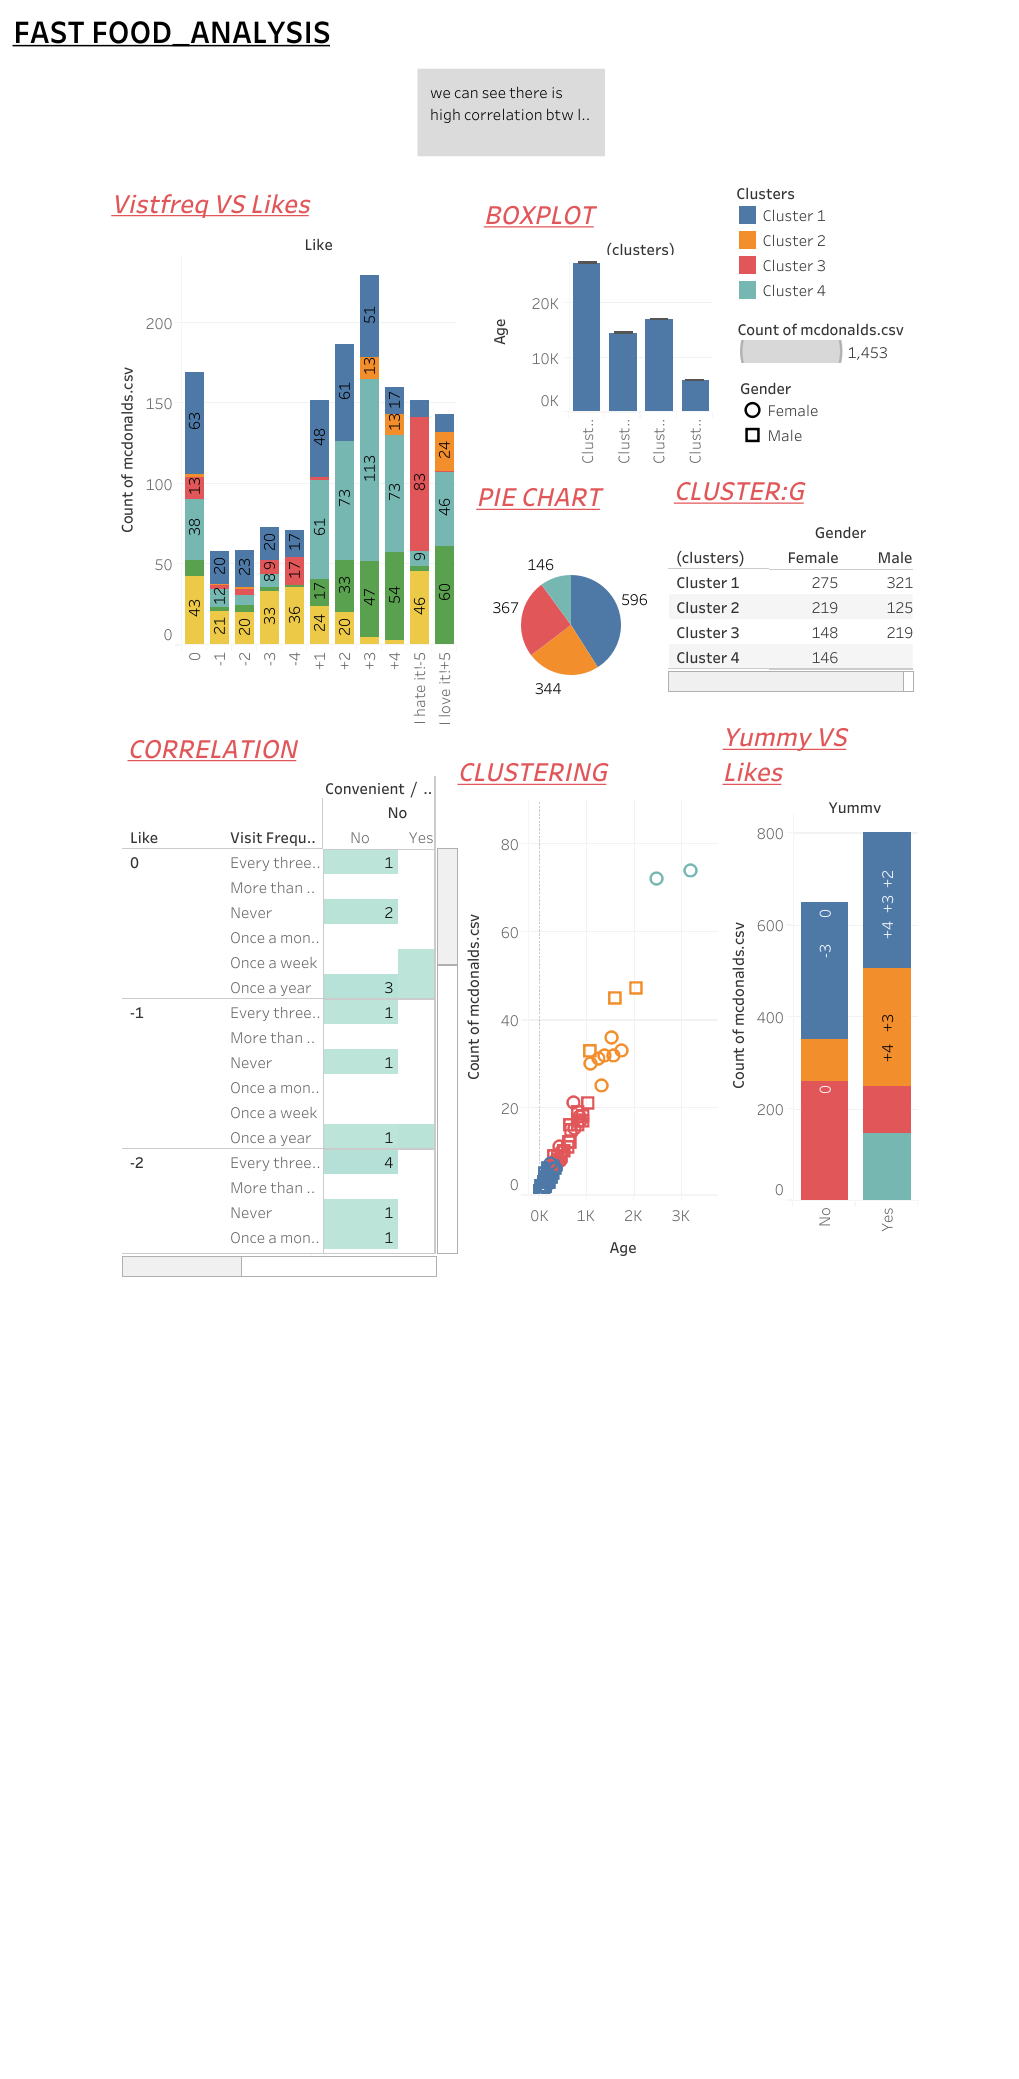

What the dashboard file says about the page in this screenshot:
{"tool":"tableau","page":{"name":"Dashboard 2","canvas":[650,860],"ordinal":1},"visuals":[{"type":"worksheet","title":"Sheet 6","mark":"Automatic","rows":["mcdonalds.csv_0BAE9D76FC1F49368F424B7D872B355A"],"cols":["Like"],"box":[2,1,291,454]},{"type":"legend","title":"Sheet 1","param":"[federated.05oyfjs17vo7ag14f51rx1qlio1h].[none:AdhocCluster:1:ok]","box":[505,2,143,106]},{"type":"worksheet","title":"Sheet 7","mark":"Automatic","rows":["Age"],"box":[300,10,187,223]},{"type":"legend","title":"Sheet 5","param":"[federated.05oyfjs17vo7ag14f51rx1qlio1h].[__tableau_internal_object_id__].[cnt:m","box":[506,111,141,43]},{"type":"legend","title":"Sheet 1","param":"[federated.05oyfjs17vo7ag14f51rx1qlio1h].[none:Gender:nk]","box":[508,158,142,61]},{"type":"worksheet","title":"Sheet 8","mark":"Automatic","cols":["Gender"],"box":[452,231,196,203]},{"type":"worksheet","title":"Sheet 5","mark":"Pie","box":[294,236,161,211]},{"type":"worksheet","title":"Sheet 4","mark":"Automatic","rows":["mcdonalds.csv_0BAE9D76FC1F49368F424B7D872B355A"],"cols":["yummy"],"box":[491,428,160,431]}]}

Visuals, with their boxes on the page's 650x860 design canvas (x1, y1, x2, y2). These are canvas units, not pixel positions in the 1019x2079 screenshot, which may show the page scaled, cropped or inside an application window:
"Sheet 6" worksheet: [left=2, top=1, right=293, bottom=455]
"Sheet 1" legend: [left=505, top=2, right=648, bottom=108]
"Sheet 7" worksheet: [left=300, top=10, right=487, bottom=233]
"Sheet 5" legend: [left=506, top=111, right=647, bottom=154]
"Sheet 1" legend: [left=508, top=158, right=650, bottom=219]
"Sheet 8" worksheet: [left=452, top=231, right=648, bottom=434]
"Sheet 5" worksheet (Pie marks): [left=294, top=236, right=455, bottom=447]
"Sheet 4" worksheet: [left=491, top=428, right=651, bottom=859]
